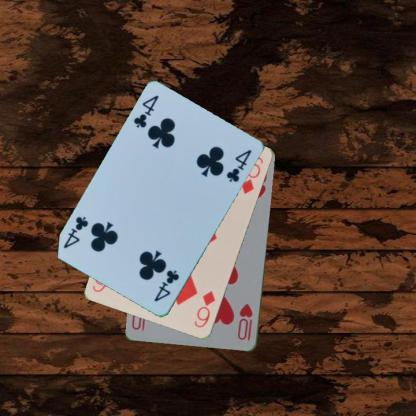10h: (235, 301, 254, 342)
4c: (151, 267, 181, 304), (131, 92, 160, 130)
6d: (192, 288, 216, 330)
